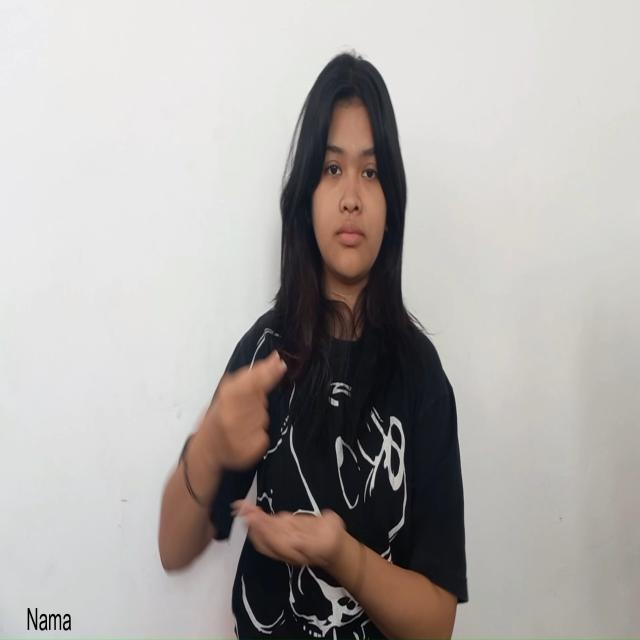Nama -BISINDO-: (198, 348, 347, 573)
